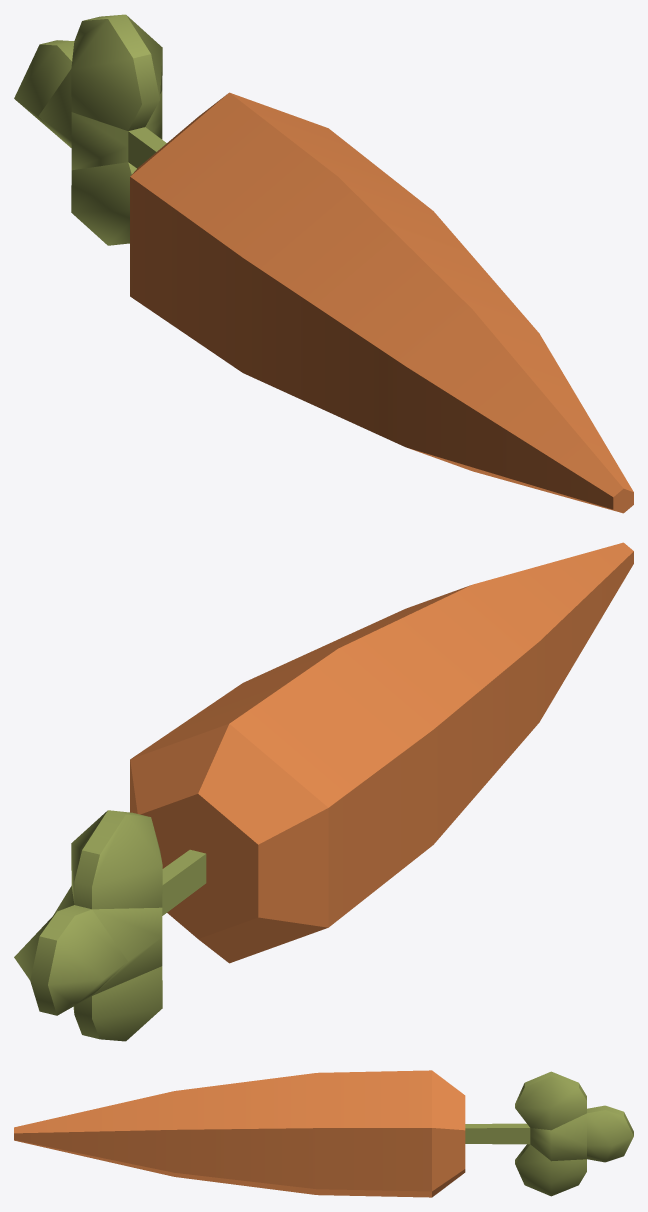
Rendered from Carrot.fbx.
The picture shows the model from 3 angles, top to bottom: view 1: azimuth 30°, elevation 25°; view 2: azimuth 150°, elevation 25°; view 3: azimuth 270°, elevation 25°; orthographic projection. The views are drawn at different scales.
Parts seen in each view (by area): view 1: Carrot; view 2: Carrot; view 3: Carrot.
Boxes of the visible parts, bbox=[...] form: Carrot: bbox=[14, 14, 633, 513]; Carrot: bbox=[14, 542, 633, 1041]; Carrot: bbox=[14, 1070, 633, 1197].
Size of the model in its own units: 1.73 by 2 by 8.84.
